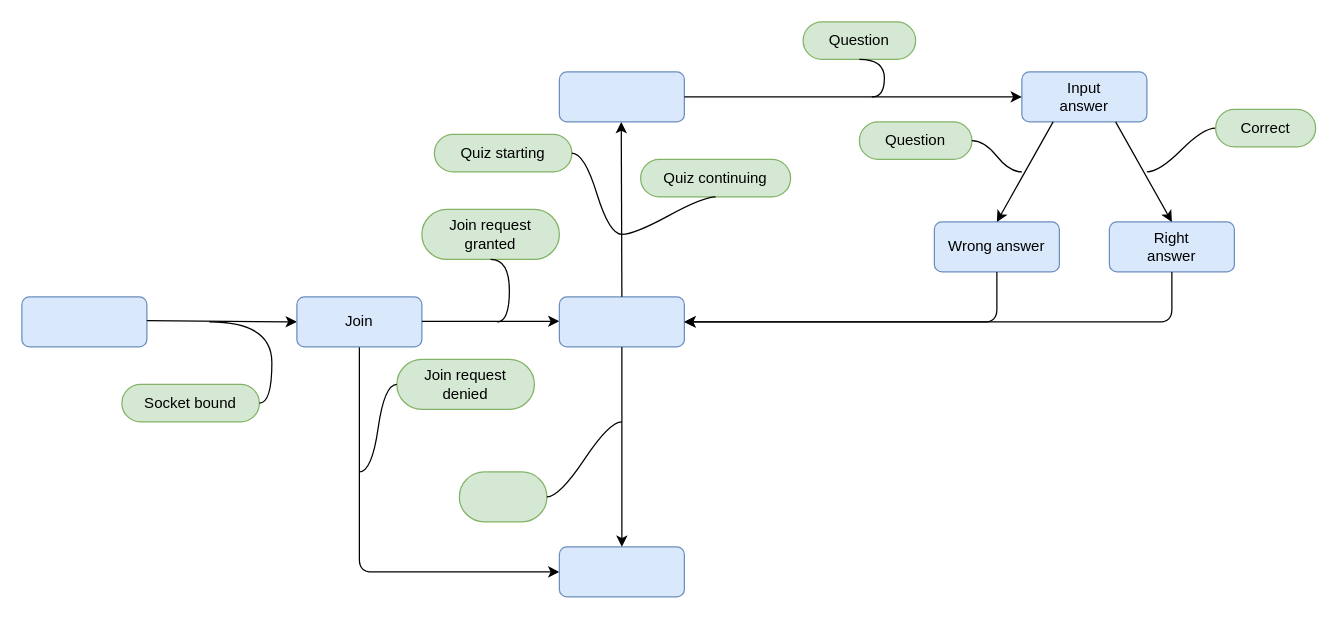
The diagram is 1338 pixels wide and 619 high, and some of its shapes have lost their labels. Here are the shapes that lost their labels. From the top down, the centre of each, then its label:
At pixel 621 96: "Ask for question".
At pixel 84 321: "setup".
At pixel 621 321: "Status".
At pixel 502 496: "Quiz over".
At pixel 621 571: "Disconnect".
